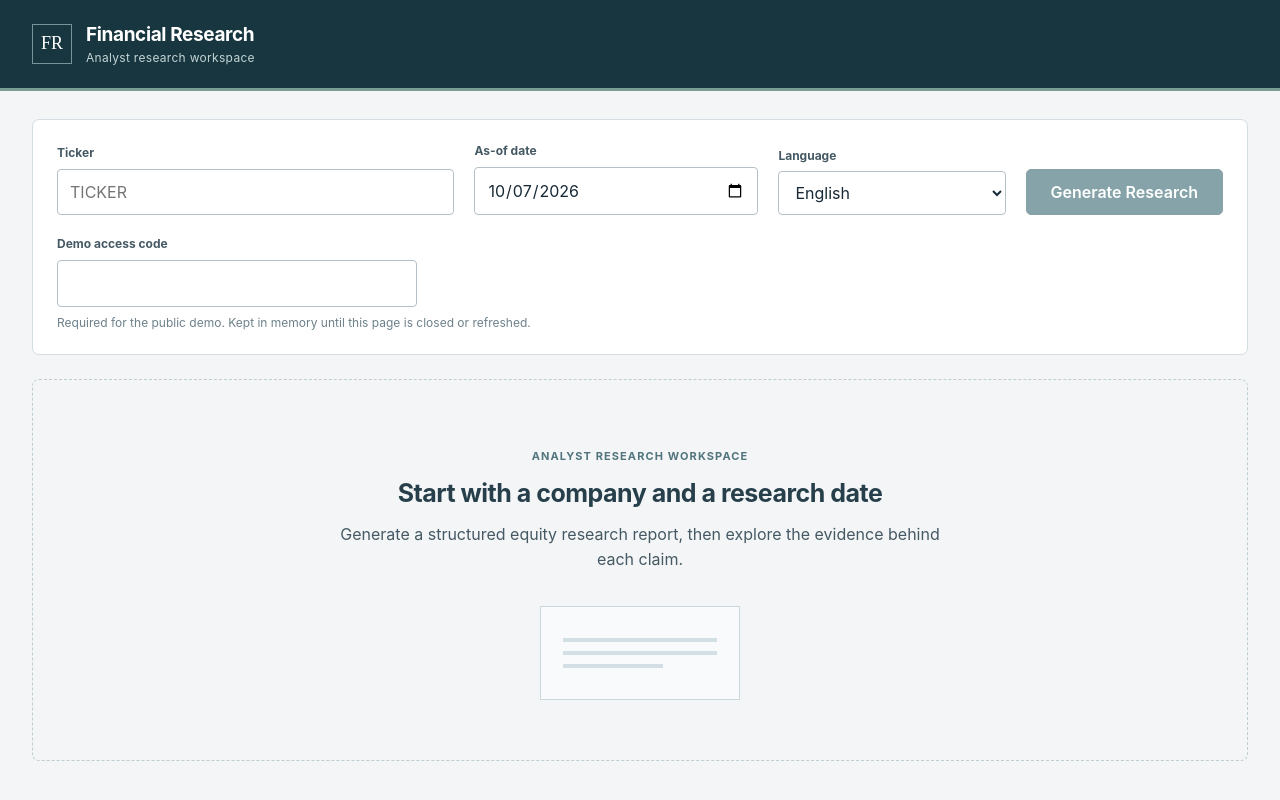
Test: shows production HTTP 401 safely without retrying automatically
Type "TEST" into the field labelled "Ticker".
click(256, 192); type("TEST")  # box top-left (57, 169), bottom-right (454, 215)
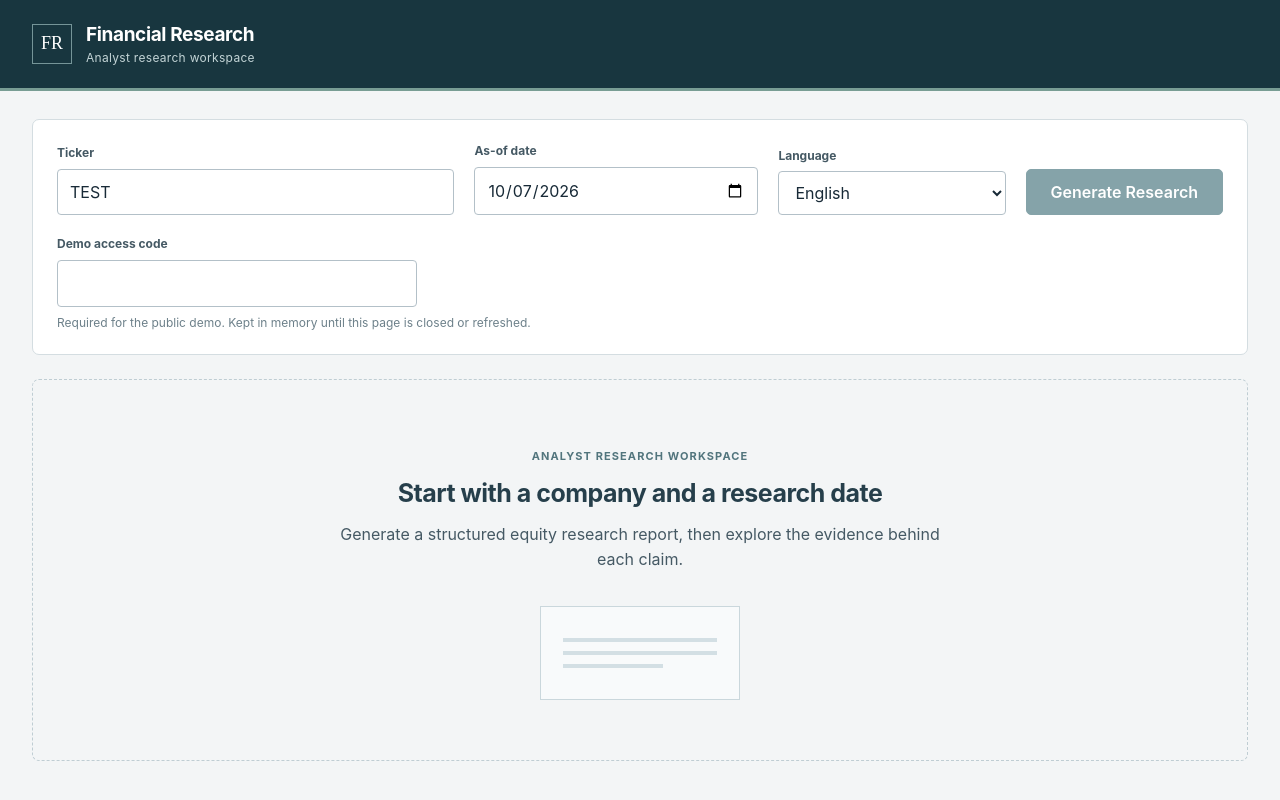
Type "synthetic-user-entered-code" into the password field labelled "Demo access code".
click(237, 283); type("synthetic-user-entered-code")  # box top-left (57, 260), bottom-right (417, 307)
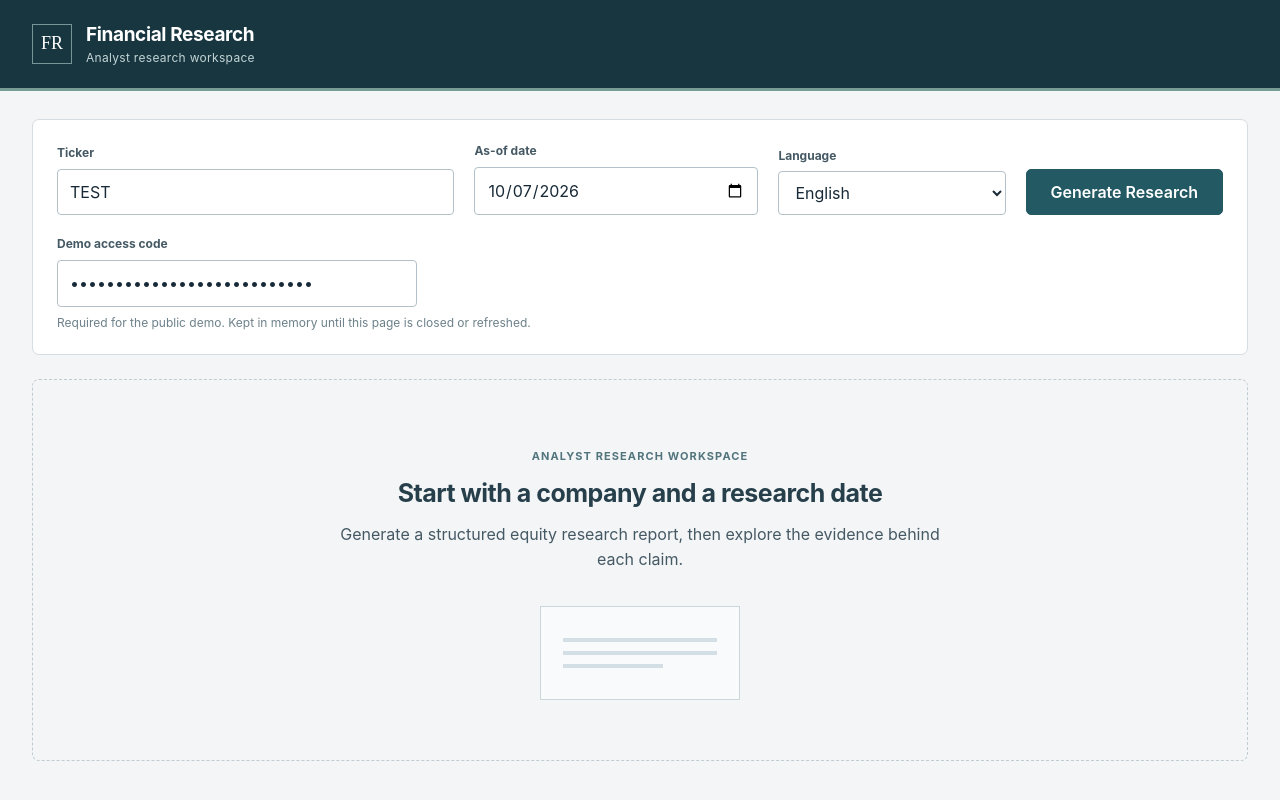
Click the button "Generate Research".
click(1124, 192)  # box top-left (1026, 169), bottom-right (1223, 215)
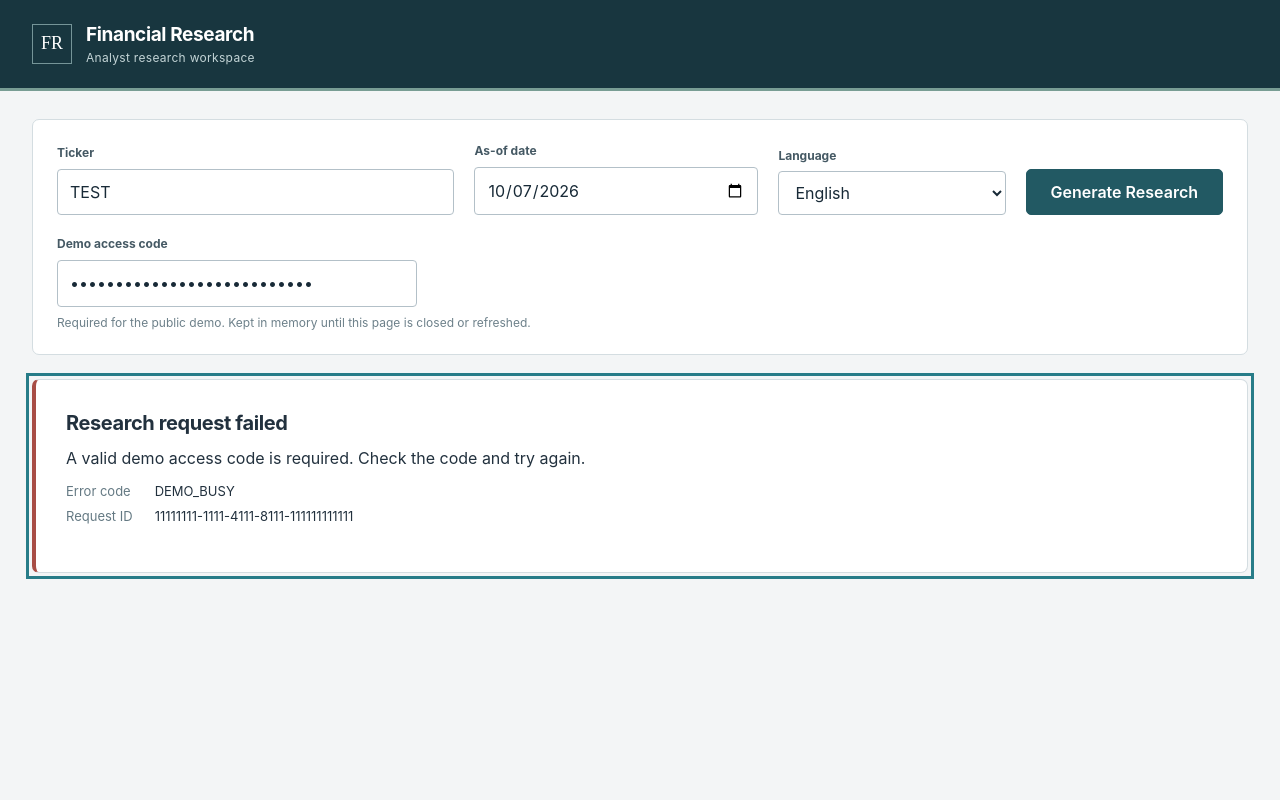
Result: the button "Generate Research" is enabled at top-left (1026, 169), bottom-right (1223, 215)
Result: the message shows "A valid demo access code is required." at top-left (66, 448), bottom-right (585, 468)
